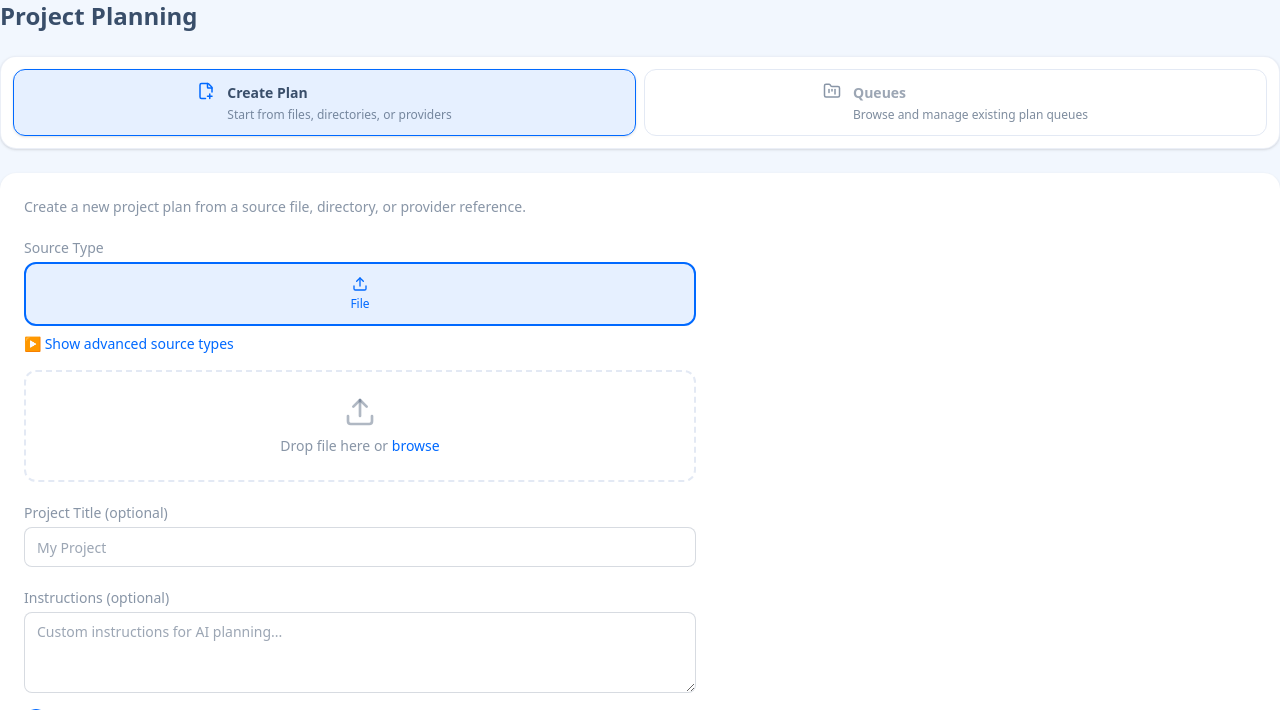
it: Project Page › Project Mode › shows dashboard queue management hint in queues tab
This screenshot has width=1280, height=710.
Click the tab "Queues Browse and manage existing plan queues" at (880, 92), box [644,69,1267,136]
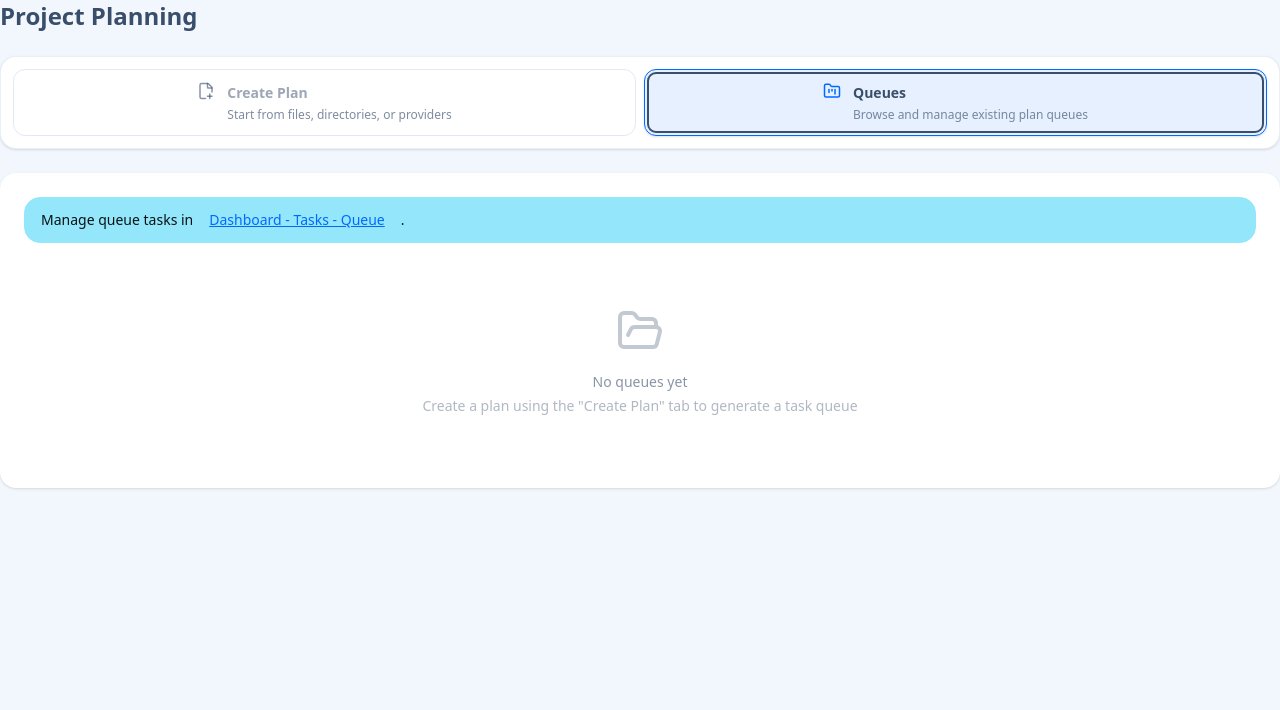
Result: the link "Dashboard - Tasks - Queue" is shown at [209,210,385,230]
